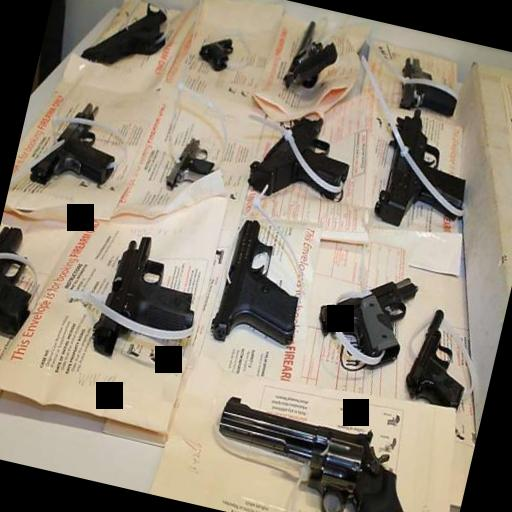Handgun: (203, 378, 446, 512), (76, 218, 212, 370), (207, 204, 324, 368), (310, 254, 423, 380), (22, 82, 126, 208), (402, 300, 486, 422), (0, 212, 69, 341), (267, 12, 350, 108), (158, 113, 221, 219), (194, 28, 243, 78)
